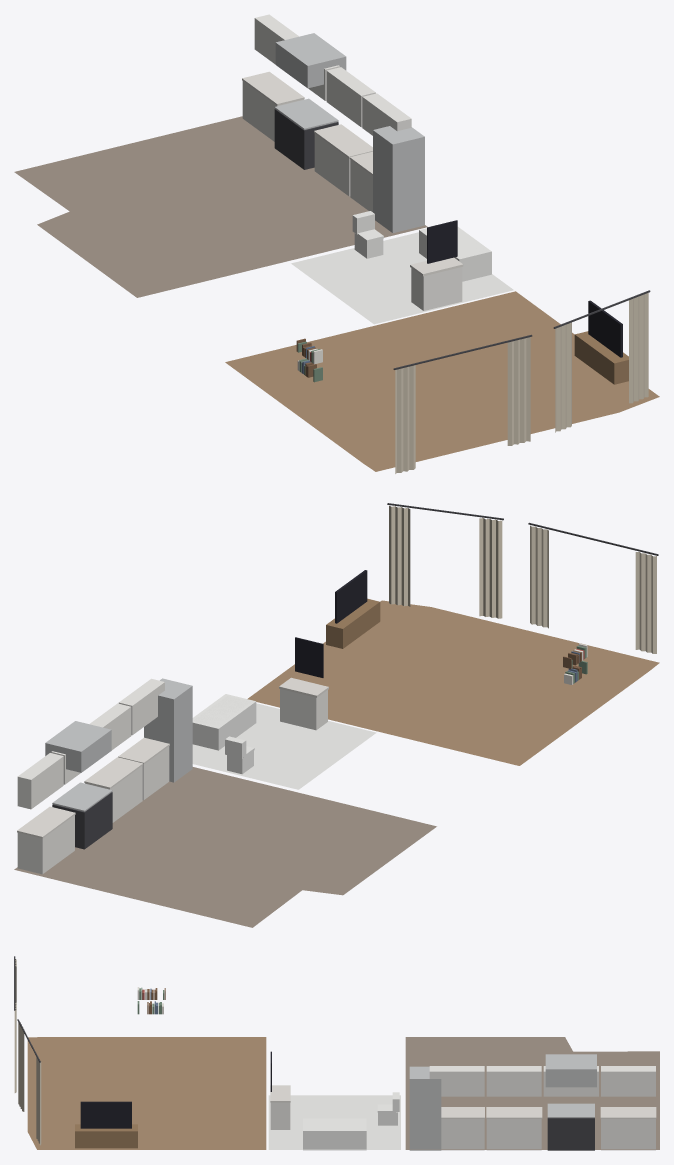
Rendered from fine-s1.glb.
The picture shows the model from 3 angles, top to bottom: view 1: azimuth 30°, elevation 25°; view 2: azimuth 150°, elevation 25°; view 3: azimuth 270°, elevation 25°; orthographic projection. The views are drawn at different scales.
Parts seen in each view (by area): view 1: soft-s1, range.000, fridge.000, vanity.000, tv-console.001, counter-run.001, counter-run.000, kitchen-upper.002, bathtub.000, kitchen-upper.003, kitchen-upper.000, counter-run.002 (+1 smaller); view 2: soft-s1, range.000, vanity.000, fridge.000, counter-run.000, tv-console.001, bathtub.000, counter-run.001, kitchen-upper.000, counter-run.002, kitchen-upper.003, kitchen-upper.002 (+1 smaller); view 3: soft-s1, range.000, tv-console.001, fridge.000, counter-run.001, counter-run.000, bathtub.000, counter-run.002, kitchen-upper.002, kitchen-upper.000, kitchen-upper.003, vanity.000 (+2 smaller).
Part boxes in pixels (x1,y1,x2,y2): soft-s1: [14, 116, 659, 473]; range.000: [274, 33, 346, 169]; fridge.000: [373, 126, 424, 232]; vanity.000: [410, 220, 463, 310]; tv-console.001: [574, 300, 628, 384]; counter-run.001: [314, 124, 372, 196]; counter-run.000: [242, 71, 304, 141]; kitchen-upper.002: [326, 67, 375, 127]; bathtub.000: [419, 227, 491, 281]; kitchen-upper.003: [362, 93, 411, 135]; kitchen-upper.000: [254, 14, 298, 64]; counter-run.002: [349, 151, 372, 211]; soft-s1: [14, 503, 659, 927]; range.000: [45, 721, 112, 849]; vanity.000: [279, 637, 328, 730]; fridge.000: [144, 678, 192, 782]; counter-run.000: [17, 806, 75, 874]; tv-console.001: [326, 570, 380, 648]; bathtub.000: [192, 694, 256, 750]; counter-run.001: [84, 757, 143, 822]; kitchen-upper.000: [17, 753, 63, 809]; counter-run.002: [118, 737, 169, 800]; kitchen-upper.003: [118, 678, 164, 735]; kitchen-upper.002: [89, 703, 131, 750]; soft-s1: [14, 956, 659, 1149]; range.000: [545, 1054, 596, 1150]; tv-console.001: [75, 1101, 137, 1148]; fridge.000: [409, 1066, 441, 1150]; counter-run.001: [486, 1107, 542, 1150]; counter-run.000: [600, 1107, 656, 1150]; bathtub.000: [303, 1118, 366, 1150]; counter-run.002: [441, 1107, 484, 1150]; kitchen-upper.002: [486, 1066, 541, 1096]; kitchen-upper.000: [601, 1066, 655, 1096]; kitchen-upper.003: [429, 1066, 484, 1096]; vanity.000: [270, 1051, 290, 1129].
Size of the model in its own units: 6.93 by 2.41 by 16.4.
